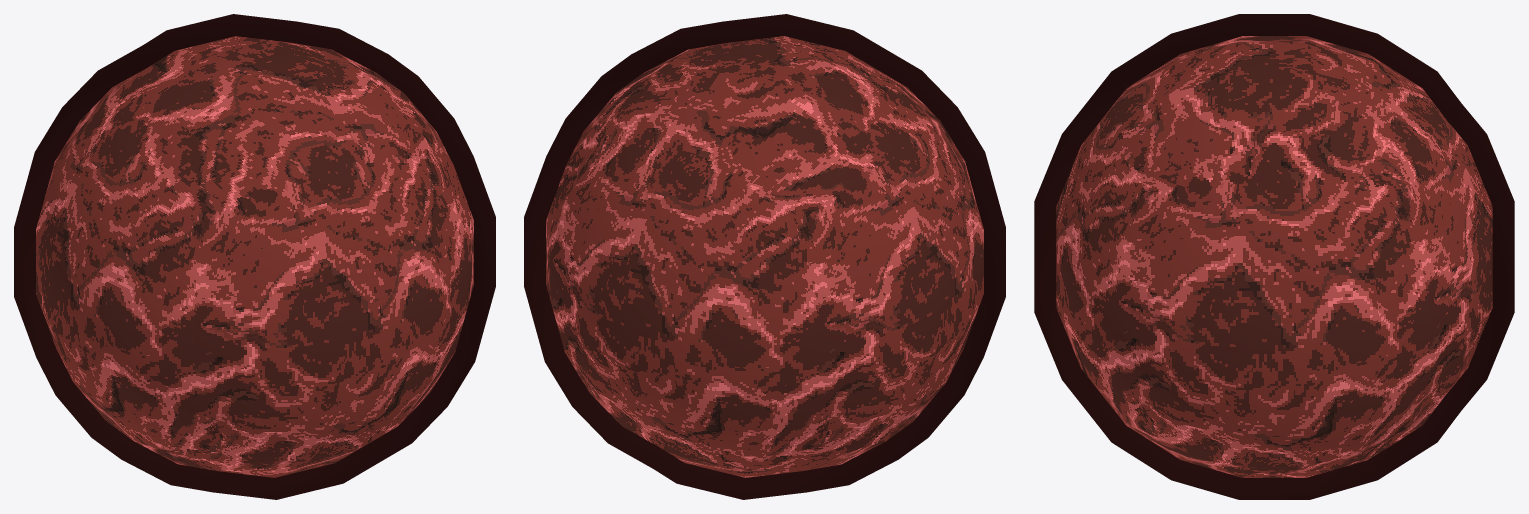
Rendered from Planet5.glb.
3 views of the same model, side by side, from view 1: azimuth 30°, elevation 25°; view 2: azimuth 150°, elevation 25°; view 3: azimuth 270°, elevation 25° (orthographic).
Visible parts, largest first — view 1: Object_2; view 2: Object_2; view 3: Object_2.
Boxes of the visible parts, <box> form: Object_2: <box>14,14,495,499</box>; Object_2: <box>524,14,1005,499</box>; Object_2: <box>1034,14,1514,499</box>.
Bounding box in the file's own units: 3.7 × 3.7 × 3.7.
1 material, 1 textured.
